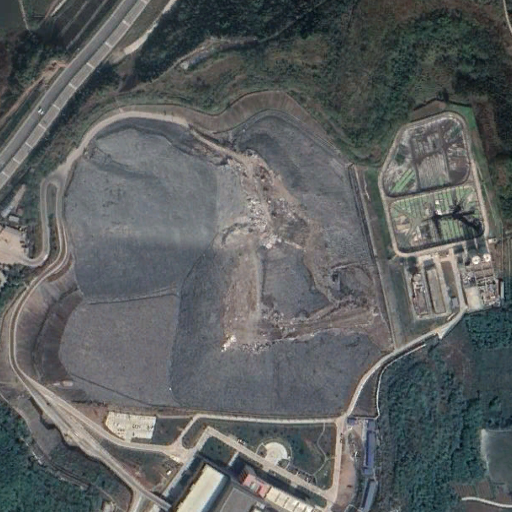lf: (8, 88, 395, 419)
